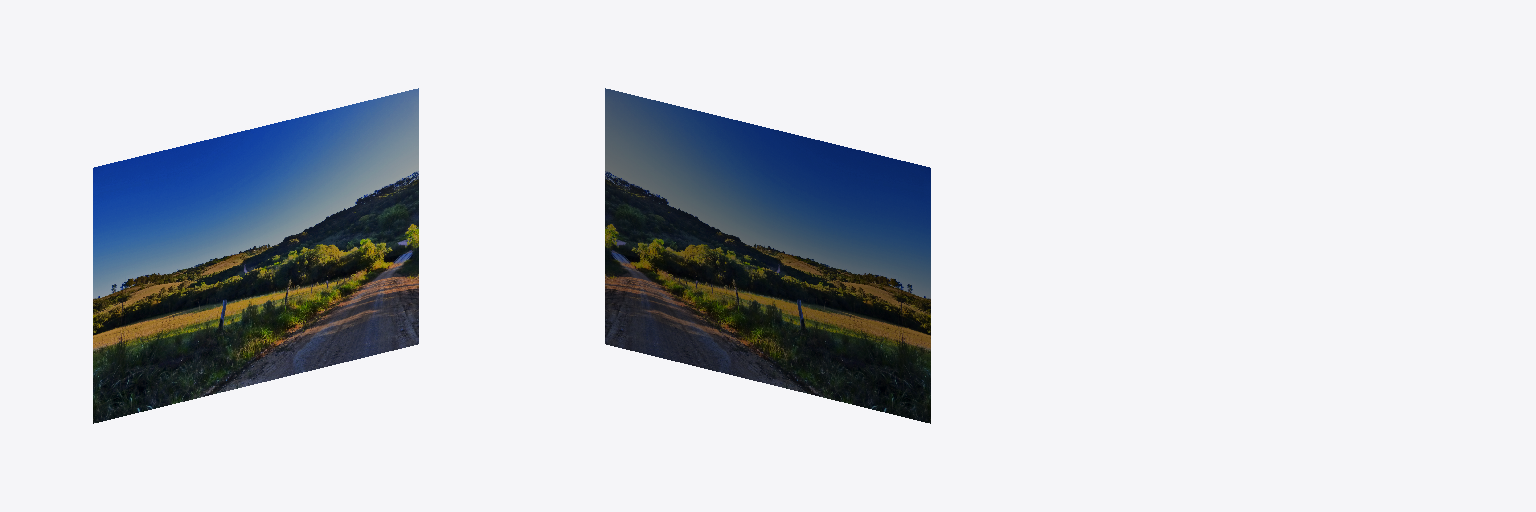
3 renders of one model, left to right at view 1: azimuth 30°, elevation 25°; view 2: azimuth 150°, elevation 25°; view 3: azimuth 270°, elevation 25°, orthographic.
Parts seen in each view (by area): view 1: Estrada_rural_04; view 2: Estrada_rural_04; view 3: none.
Part boxes in pixels (bbox=[...]): Estrada_rural_04: bbox=[93, 88, 418, 423]; Estrada_rural_04: bbox=[605, 88, 930, 423].
Size of the model in its own units: 1.33 by 1 by 0.
Materials: 1 (1 with a texture image).